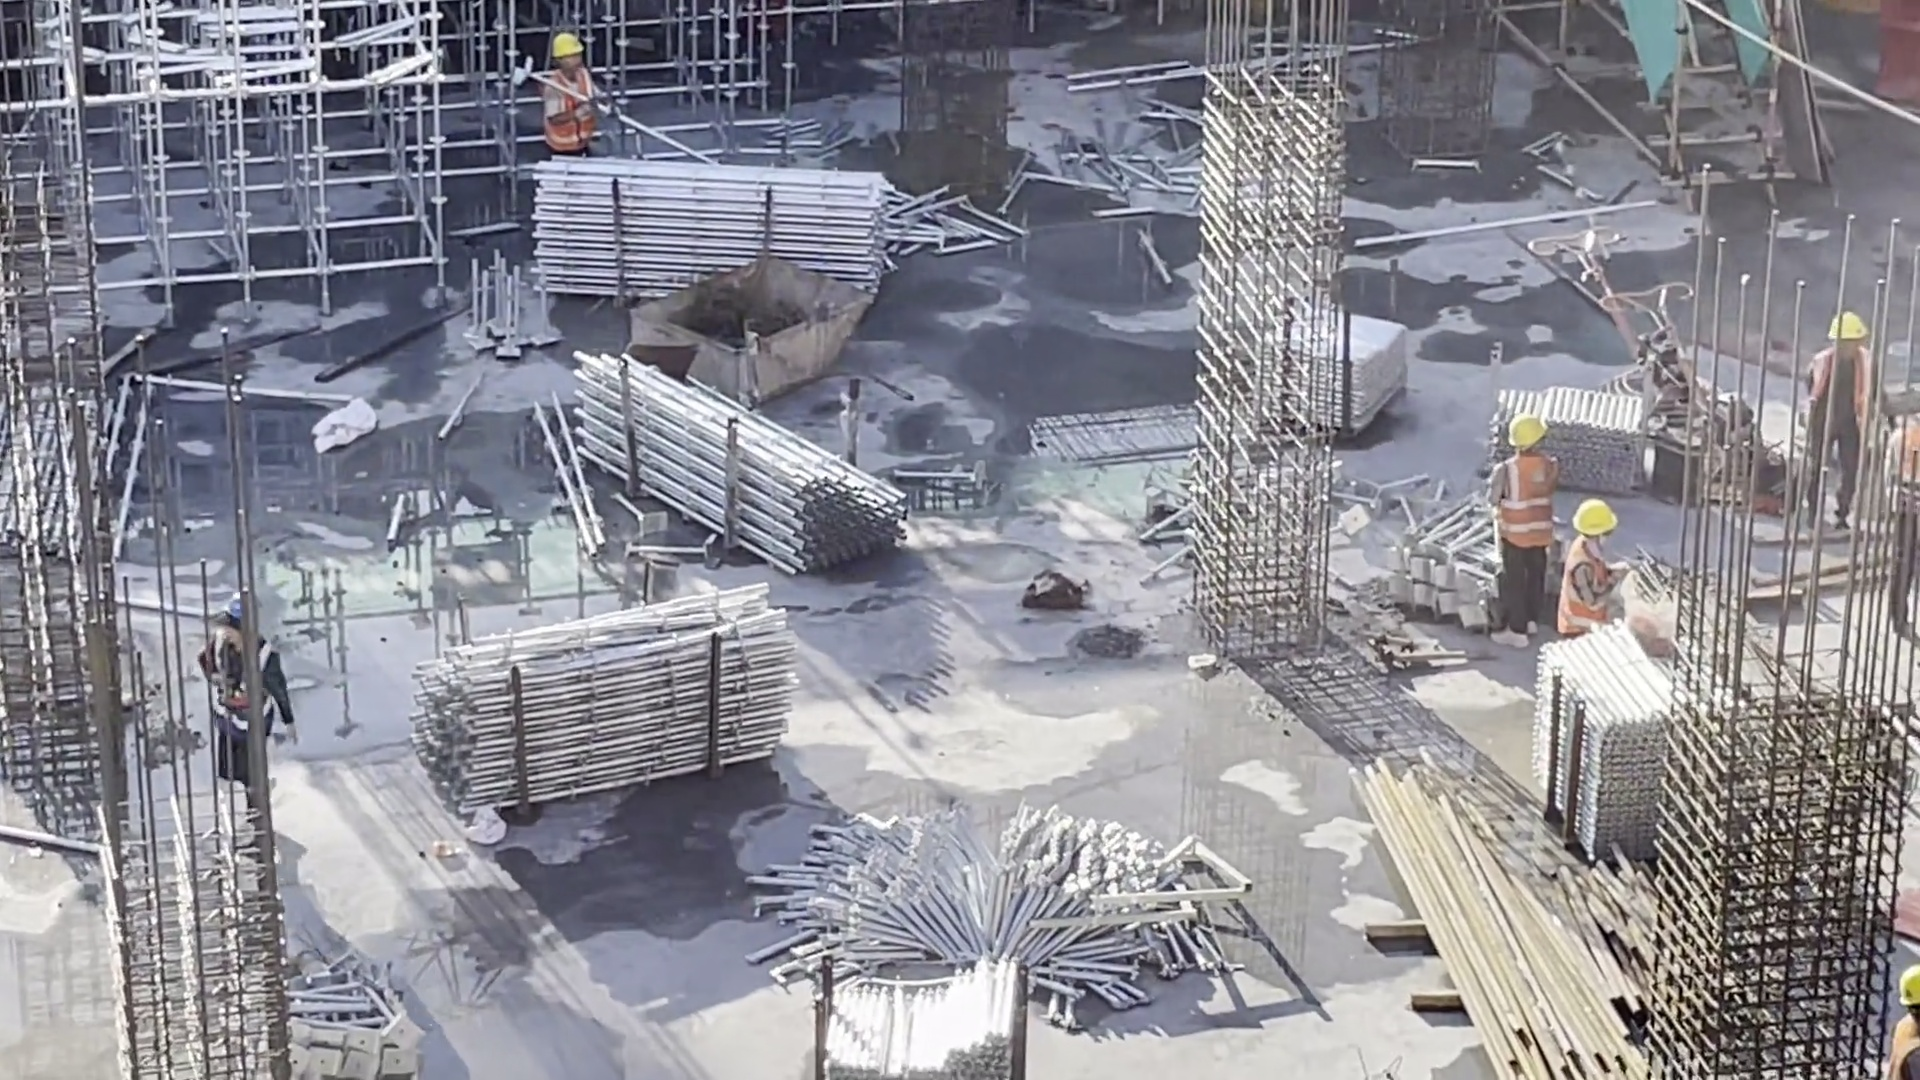helmet: (1506, 417, 1552, 456), (1830, 304, 1864, 349), (233, 587, 264, 634), (1581, 500, 1614, 543), (548, 27, 586, 64), (1893, 961, 1920, 1005)
person: (201, 591, 289, 806), (1488, 416, 1559, 653), (1810, 317, 1881, 546), (529, 35, 622, 161), (1562, 505, 1634, 657), (1888, 405, 1920, 608), (1889, 963, 1920, 1076)
vest: (206, 642, 280, 760), (1492, 458, 1569, 554), (1804, 345, 1873, 435), (1559, 546, 1612, 639), (543, 76, 606, 154), (1896, 424, 1920, 507), (1892, 1008, 1920, 1064)
